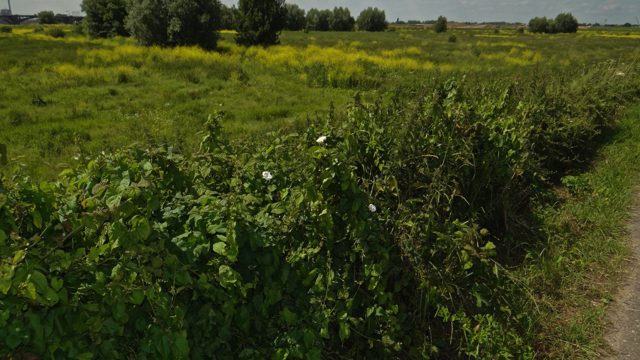haagwinde: (1, 127, 384, 330)
